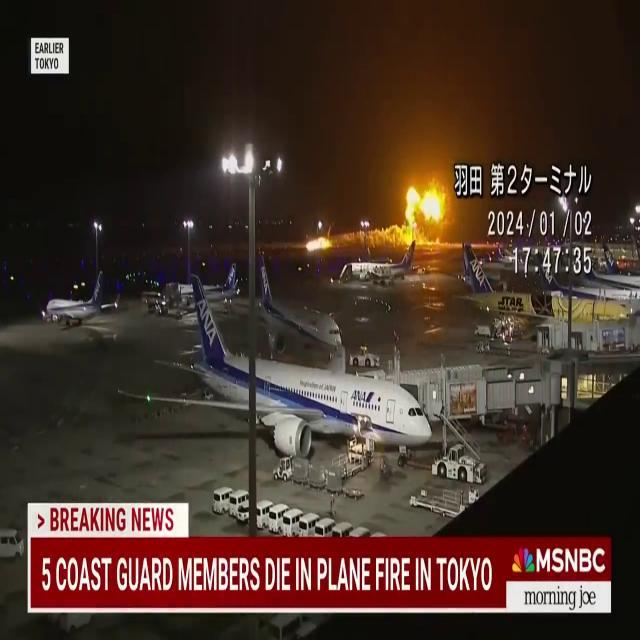Fire: (396, 178, 450, 246)
